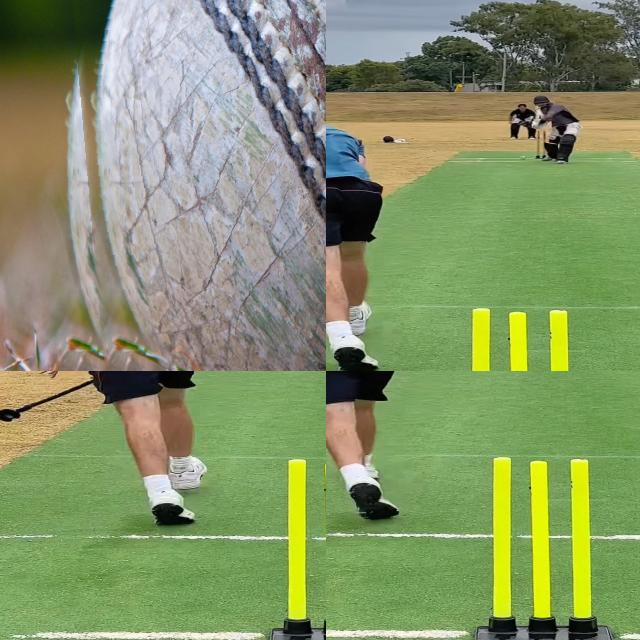Cricket ball: (55, 0, 326, 371), (519, 154, 529, 161)
Stumps: (471, 456, 615, 640), (261, 454, 326, 640), (452, 306, 595, 371), (536, 128, 552, 159)
